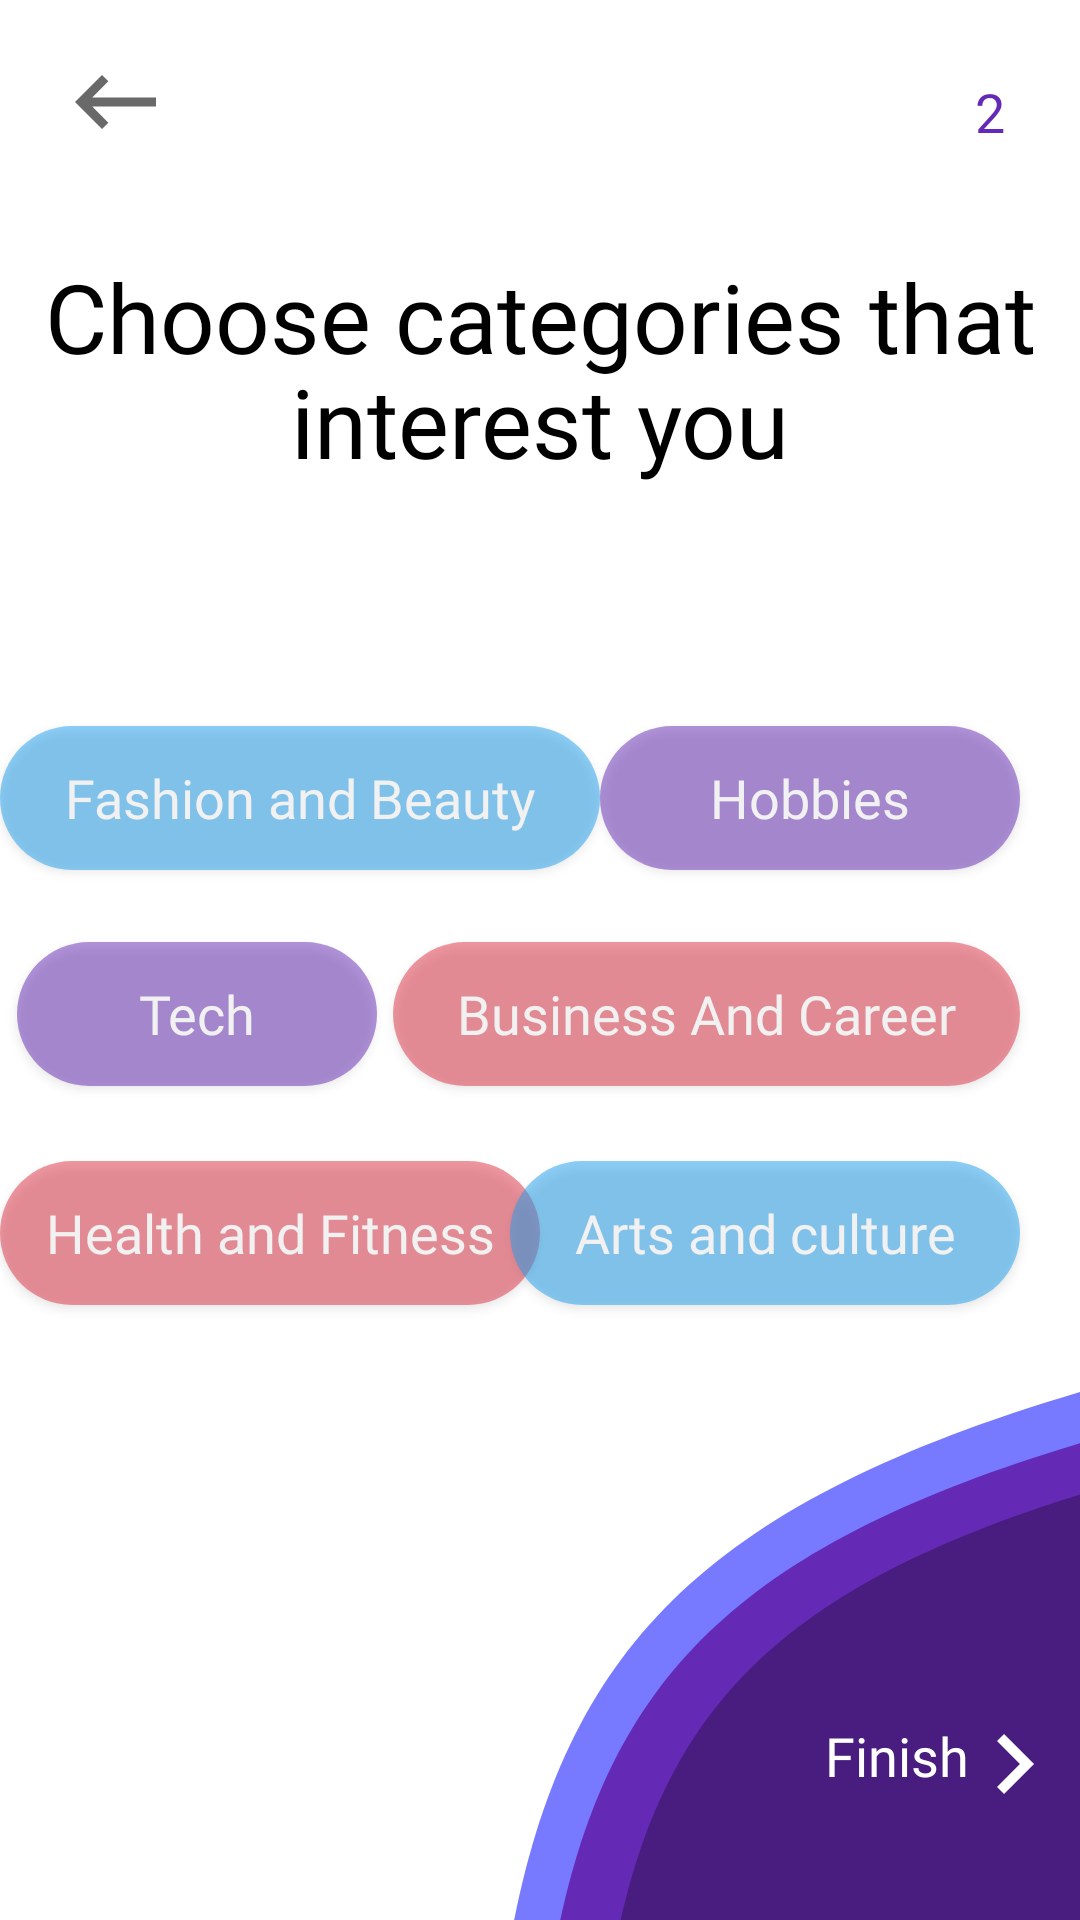

Where to tap for icons on this 1080w x 1920h app screen, as point (x, y):
back: point (115, 102)
forward: point (1015, 1764)
